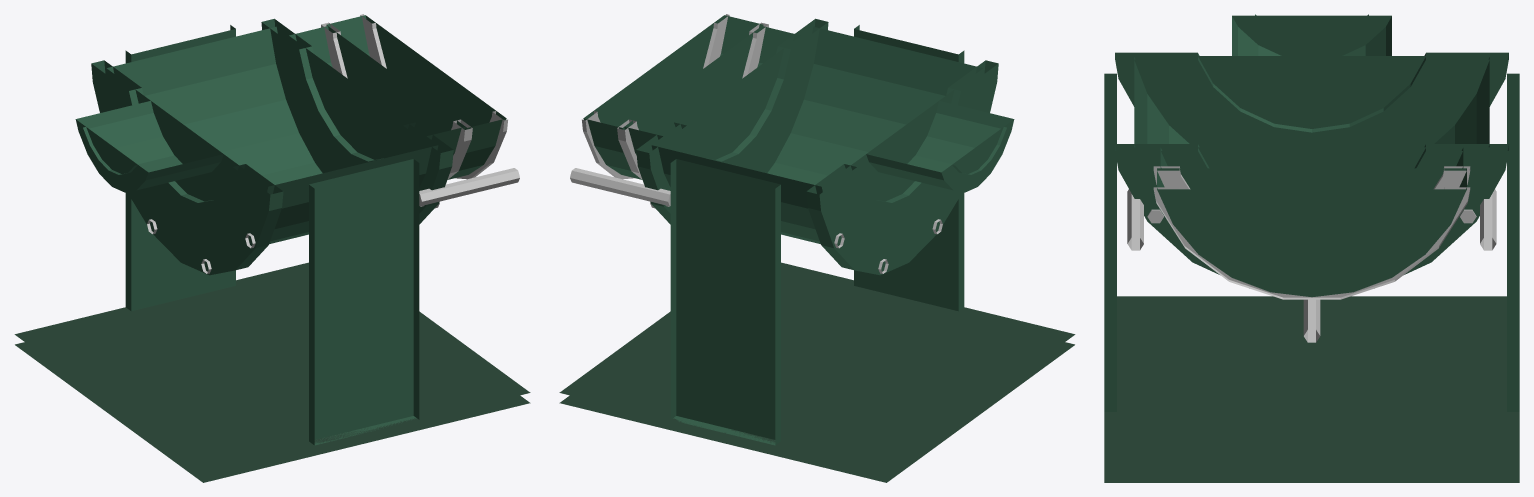
File: cell_13.obj
3 views of the same model, side by side, from view 1: azimuth 30°, elevation 25°; view 2: azimuth 150°, elevation 25°; view 3: azimuth 270°, elevation 25° (orthographic). The views are drawn at different scales.
Bounding box in the file's own units: 1 × 0.78 × 1.
